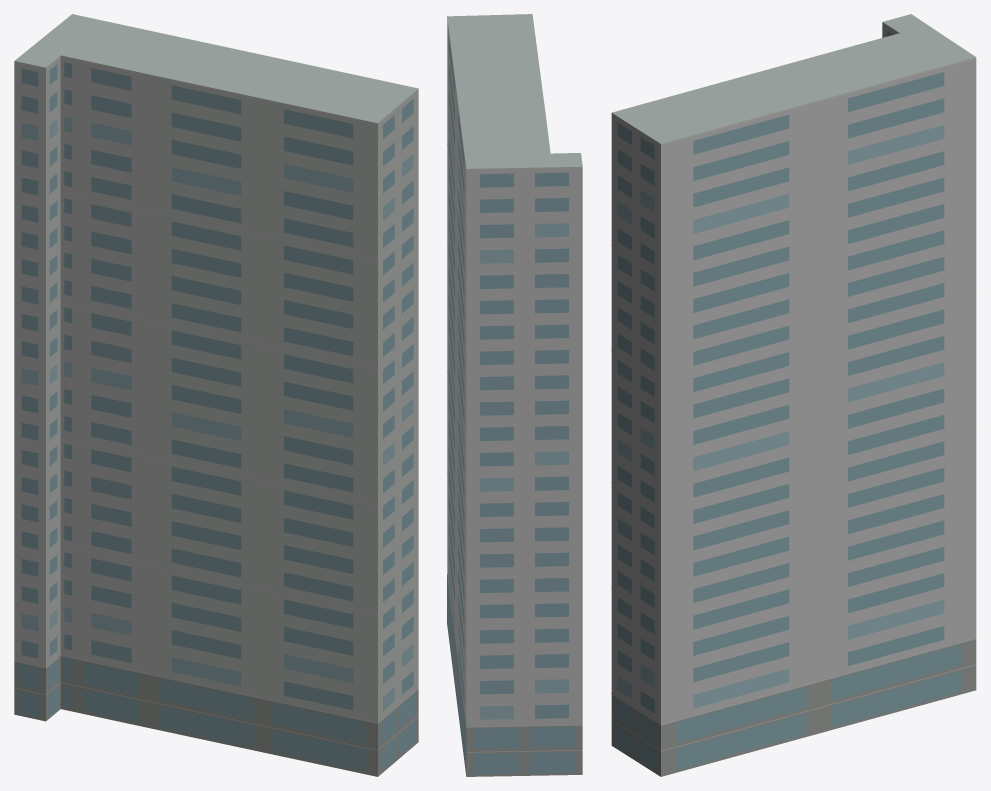
File: survey-upis-32735409.glb
The picture shows the model from 3 angles, left to right: view 1: azimuth 30°, elevation 25°; view 2: azimuth 150°, elevation 25°; view 3: azimuth 270°, elevation 25°; orthographic projection. The views are drawn at different scales.
Parts seen in each view (by area): view 1: survey-upis-32735409.tmp; view 2: survey-upis-32735409.tmp; view 3: survey-upis-32735409.tmp.
Part boxes in pixels (box(x1,y1,x2,y2)): survey-upis-32735409.tmp: box(14, 14, 418, 776); survey-upis-32735409.tmp: box(447, 14, 582, 776); survey-upis-32735409.tmp: box(611, 14, 976, 776).
Bounding box in the file's own units: 32.25 × 73.2 × 38.26.
